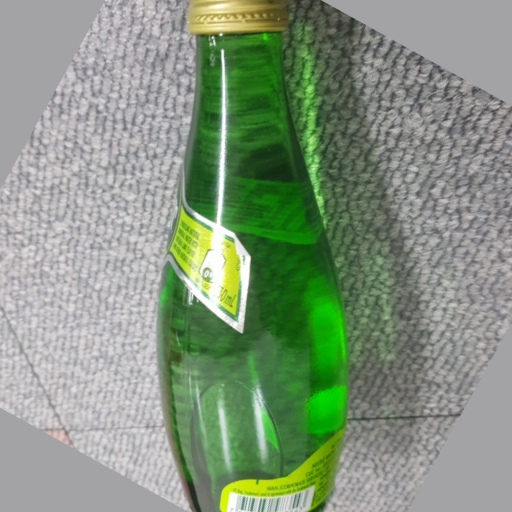Glass_4: (155, 1, 348, 512)
